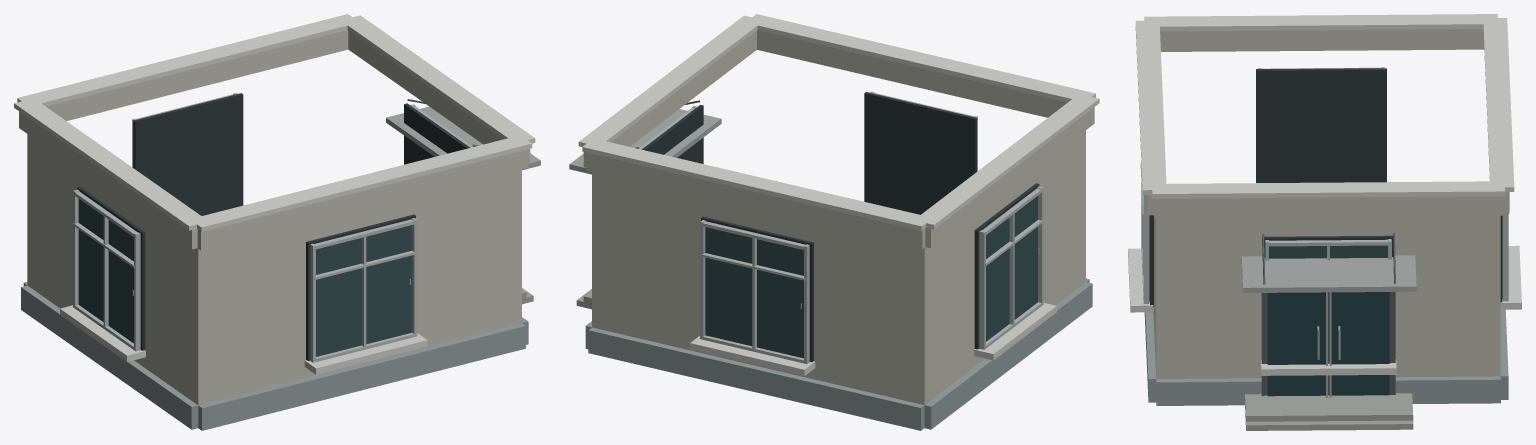
Rendered from osm_way_224996787.glb.
The picture shows the model from 3 angles, left to right: view 1: azimuth 30°, elevation 25°; view 2: azimuth 150°, elevation 25°; view 3: azimuth 270°, elevation 25°; orthographic projection. The views are drawn at different scales.
Visible parts, largest first — view 1: Architecture | osm_way_224996787, Windows and facade details | osm_way_224996787, Roof services | osm_way_224996787, EXTERIOR::osm_way_224996787::inferred entry doors canopy and; view 2: Architecture | osm_way_224996787, Windows and facade details | osm_way_224996787, Roof services | osm_way_224996787, EXTERIOR::osm_way_224996787::inferred entry doors canopy and; view 3: Architecture | osm_way_224996787, EXTERIOR::osm_way_224996787::inferred entry doors canopy and, Windows and facade details | osm_way_224996787, Roof services | osm_way_224996787.
Part boxes in pixels (bbox=[...]): Architecture | osm_way_224996787: bbox=[19, 30, 530, 430]; Windows and facade details | osm_way_224996787: bbox=[60, 92, 472, 374]; Roof services | osm_way_224996787: bbox=[14, 14, 535, 231]; EXTERIOR::osm_way_224996787::inferred entry doors canopy and: bbox=[386, 99, 540, 304]; Architecture | osm_way_224996787: bbox=[583, 30, 1094, 430]; Windows and facade details | osm_way_224996787: bbox=[639, 91, 1056, 376]; Roof services | osm_way_224996787: bbox=[578, 14, 1099, 230]; EXTERIOR::osm_way_224996787::inferred entry doors canopy and: bbox=[569, 100, 721, 309]; Architecture | osm_way_224996787: bbox=[1144, 29, 1509, 405]; EXTERIOR::osm_way_224996787::inferred entry doors canopy and: bbox=[1241, 233, 1416, 430]; Windows and facade details | osm_way_224996787: bbox=[1128, 67, 1521, 375]; Roof services | osm_way_224996787: bbox=[1135, 14, 1514, 198].
Bounding box in the file's own units: 9.44 × 4.54 × 7.54.
